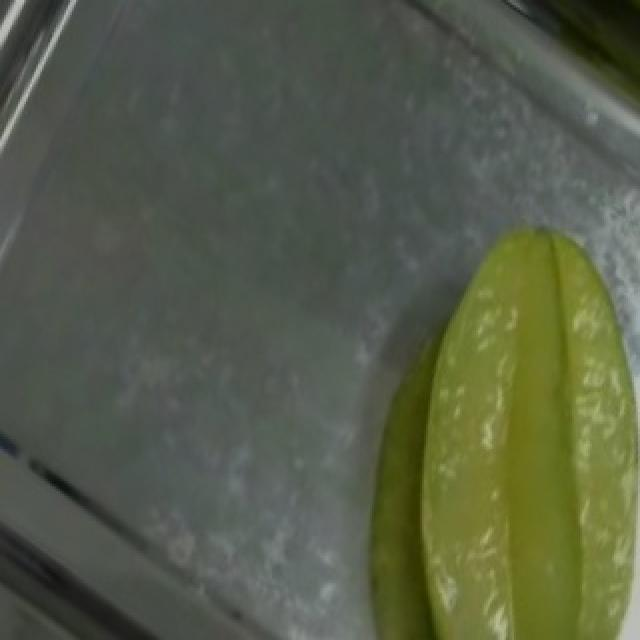fruit: (384, 198, 640, 576)
